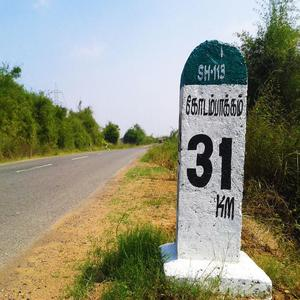kmstone: (180, 35, 251, 279)
